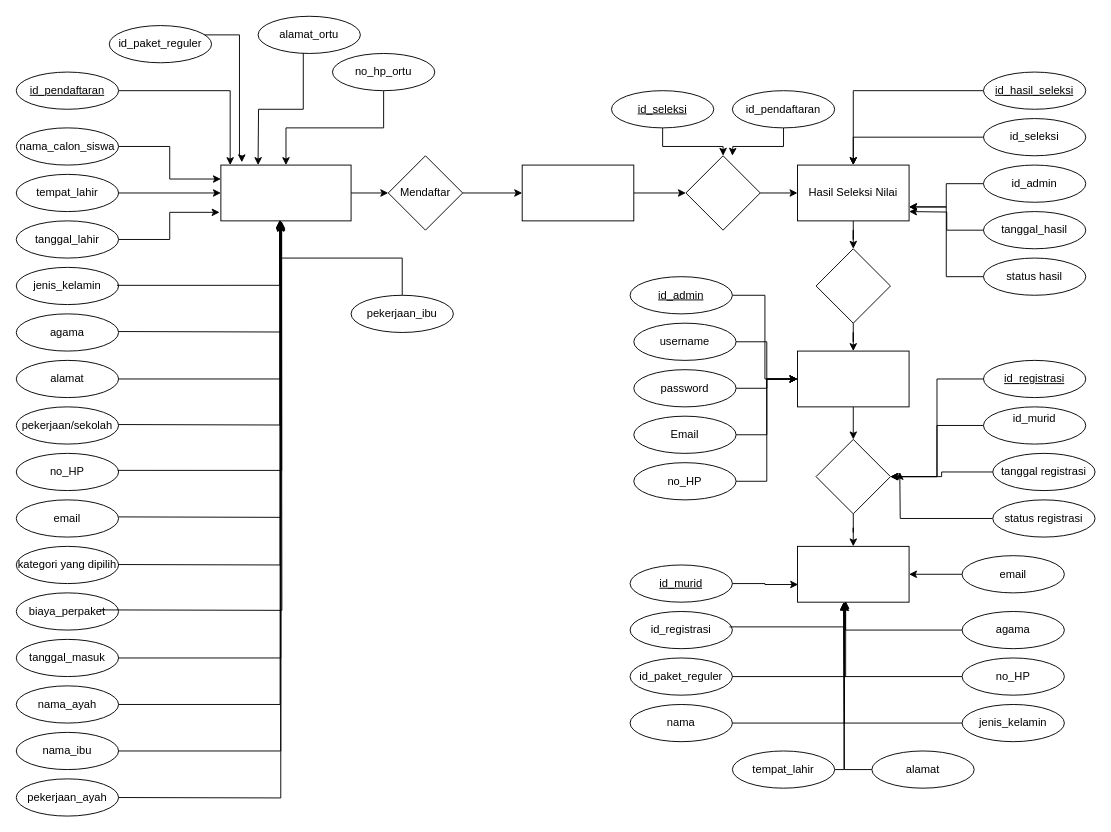
Image size: 1111x832. Some labels were removed from this diagram. The centre of each missing label's shape, as x and y in pixels:
"Admin" goes at point 853,378.
"Calon Siswa" goes at point 285,192.
"input Nilai" goes at point 852,285.
"Penerimaan Siswa Baru" goes at point 577,192.
"Penyeleksian" goes at point 722,192.
"registrasi" goes at point 852,476.
"Siswa" goes at point 853,573.
